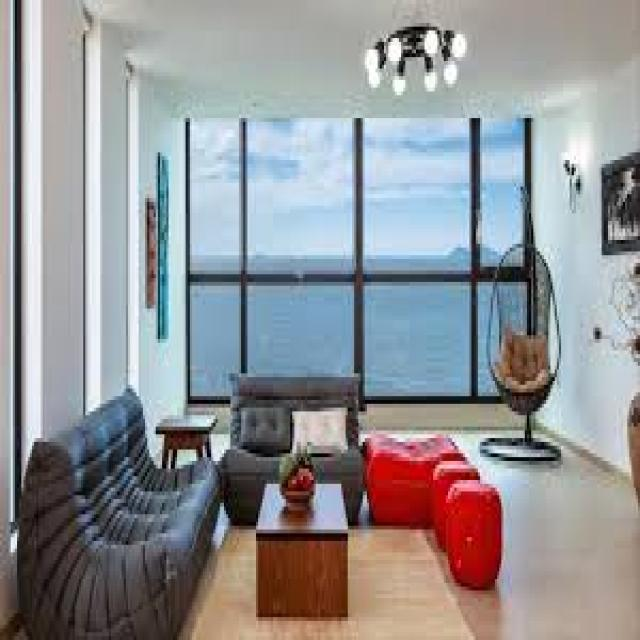Chair: (488, 238, 565, 450)
Sofa: (19, 385, 218, 640), (223, 364, 361, 489)
Table: (252, 480, 349, 620)
window: (184, 124, 533, 363)
